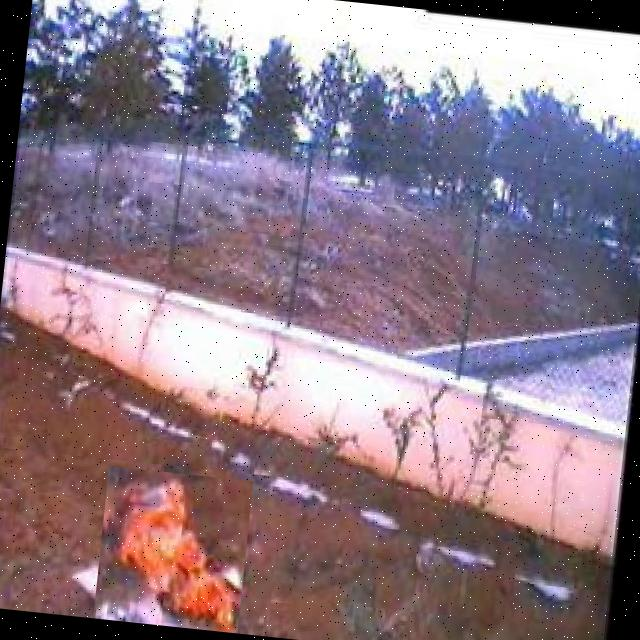fire: (92, 466, 252, 633)
